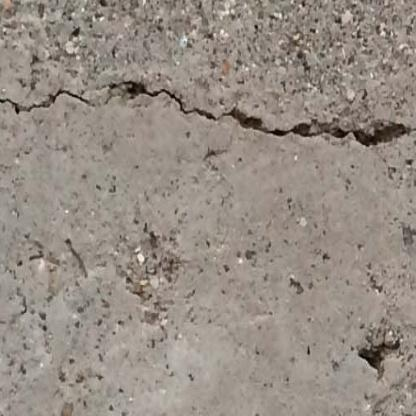Cracks: (106, 78, 416, 154), (0, 85, 94, 119)
